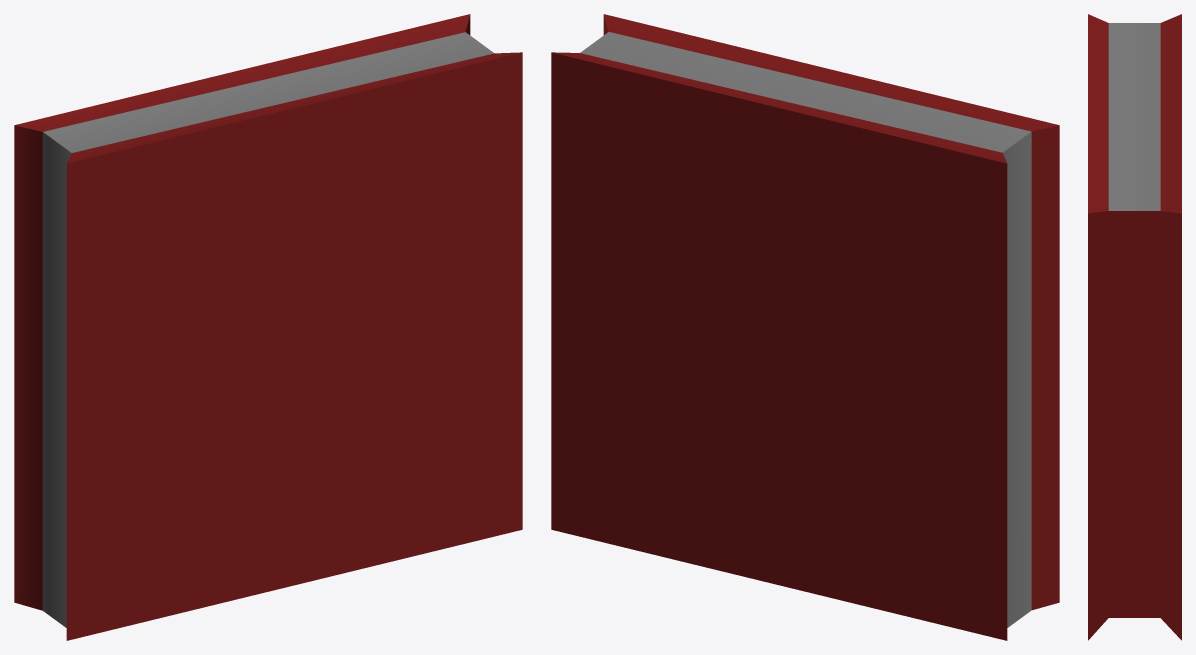
File: Book.fbx
The picture shows the model from 3 angles, left to right: view 1: azimuth 30°, elevation 25°; view 2: azimuth 150°, elevation 25°; view 3: azimuth 270°, elevation 25°; orthographic projection. The views are drawn at different scales.
Visible parts, largest first — view 1: pCube5; view 2: pCube5; view 3: pCube5.
Part boxes in pixels (x1=…): pCube5: x1=14, y1=14, x2=522, y2=640; pCube5: x1=551, y1=14, x2=1059, y2=640; pCube5: x1=1088, y1=14, x2=1181, y2=640.
Size of the model in its own units: 21.5 by 21.66 by 4.28.
